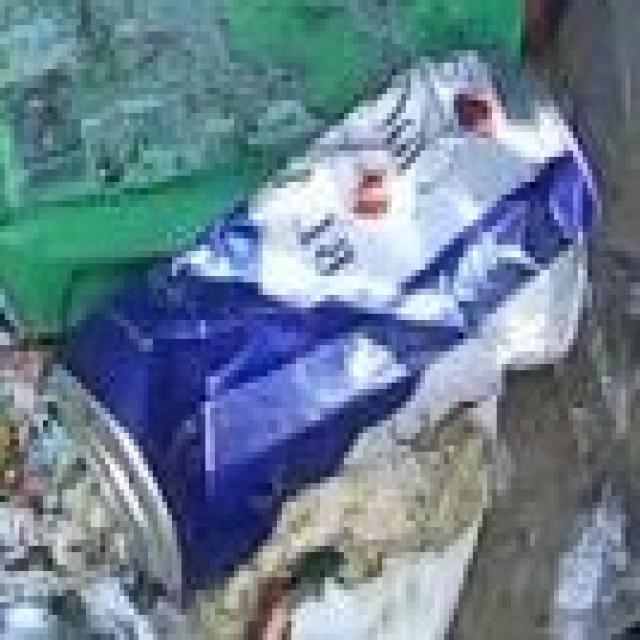litter: (12, 10, 623, 632)
